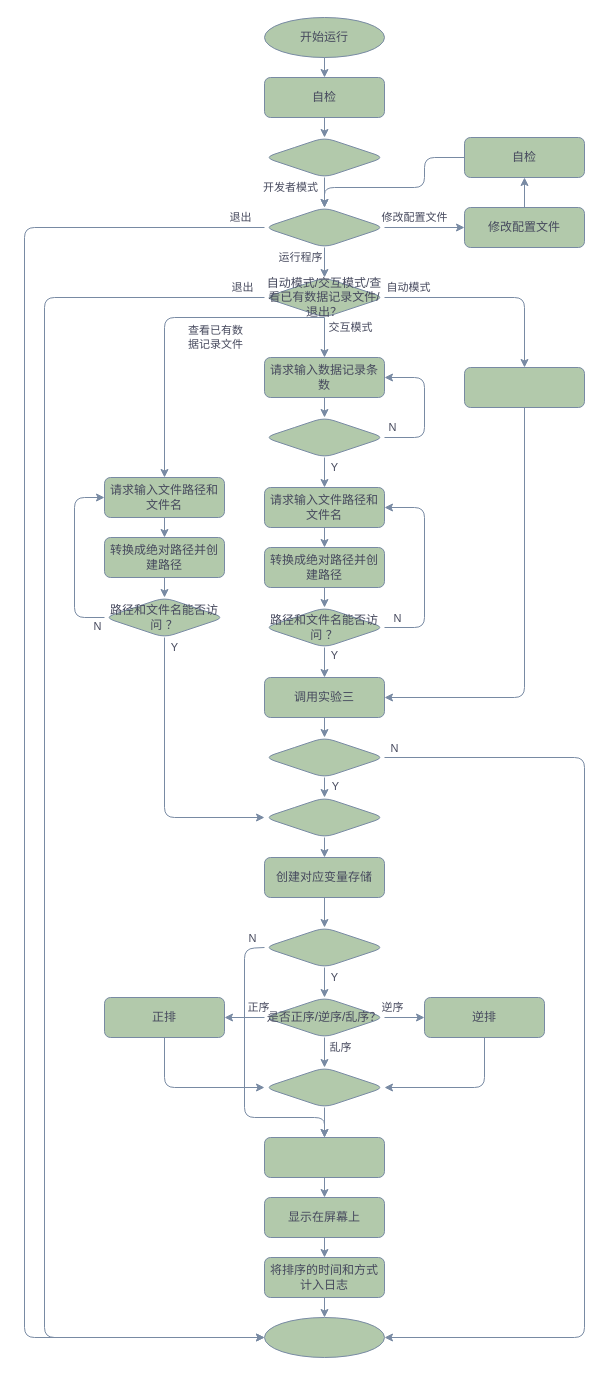
Image size: 610x1375. Some labels were removed from this diagram. Each missing label, with the centre of its shape:
修改配置文件/运行程序/退出？: the point at 324,227
按照数据记录文件的限制参数输出: the point at 524,387
数据记录条数是否合法 ?: the point at 324,437
是否查看生成的数据记录文件？: the point at 324,757
是否计时？: the point at 324,947
用户模式/开发者模式？: the point at 324,157
结束程序: the point at 324,1337
询问冒泡/快速排序？: the point at 324,1087
选择二维数组/结构体数组/指针数组/链表存储？: the point at 324,817
（计时）排序: the point at 324,1157
